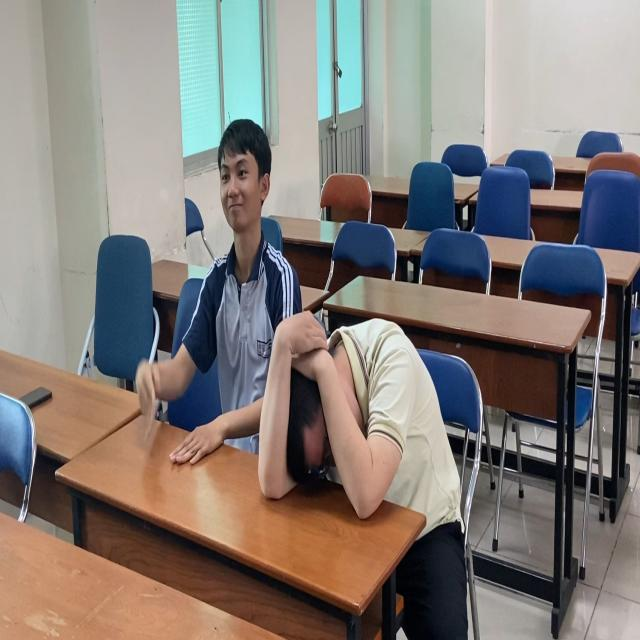sleep: (257, 305, 479, 547)
